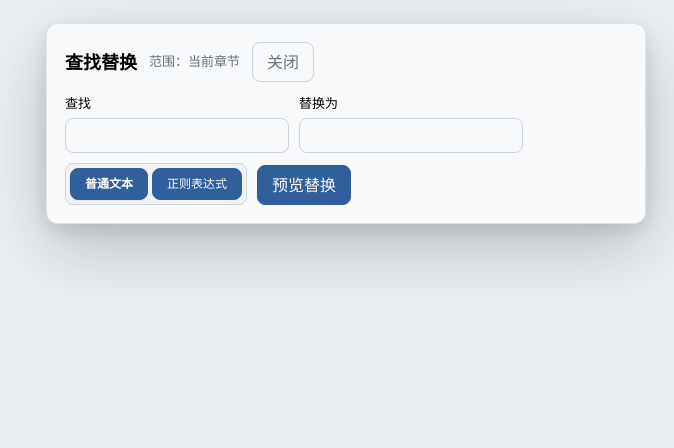
ReplacePanel 逐命中排除与替换计划 › stale：正文变化后应用被拒并展示失效提示
In the field with test id "replace-find": (177, 135) [65,118,289,153], type "旧"
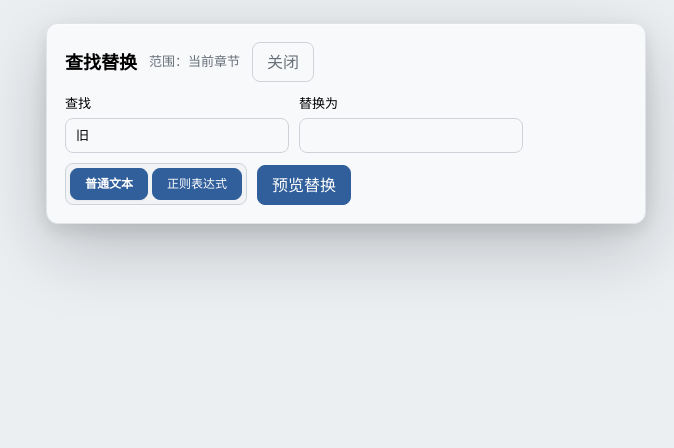
Click the button with test id "replace-preview": click(304, 185) [257,165,351,205]
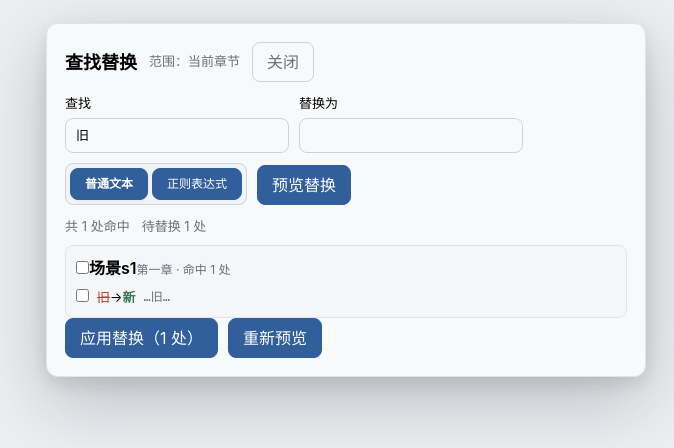
Expected: the element with test id "replace-plan-view" is shown, [65,217,627,318]
Click the button with test id "replace-apply": click(142, 338) [65,318,218,358]
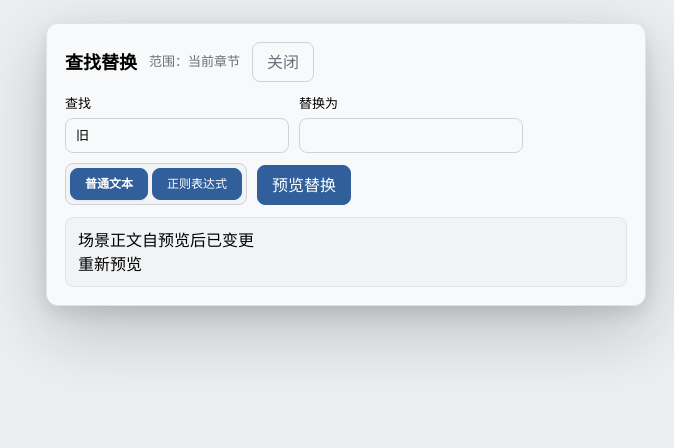
Expected: the element with test id "replace-error-banner" is shown, [65,217,627,287]
Expected: the text "场景正文自预览后已变更" is shown, [78,230,254,250]
